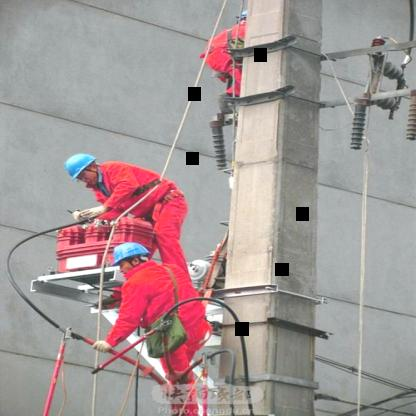helmet: (109, 239, 154, 277), (63, 153, 105, 187)
